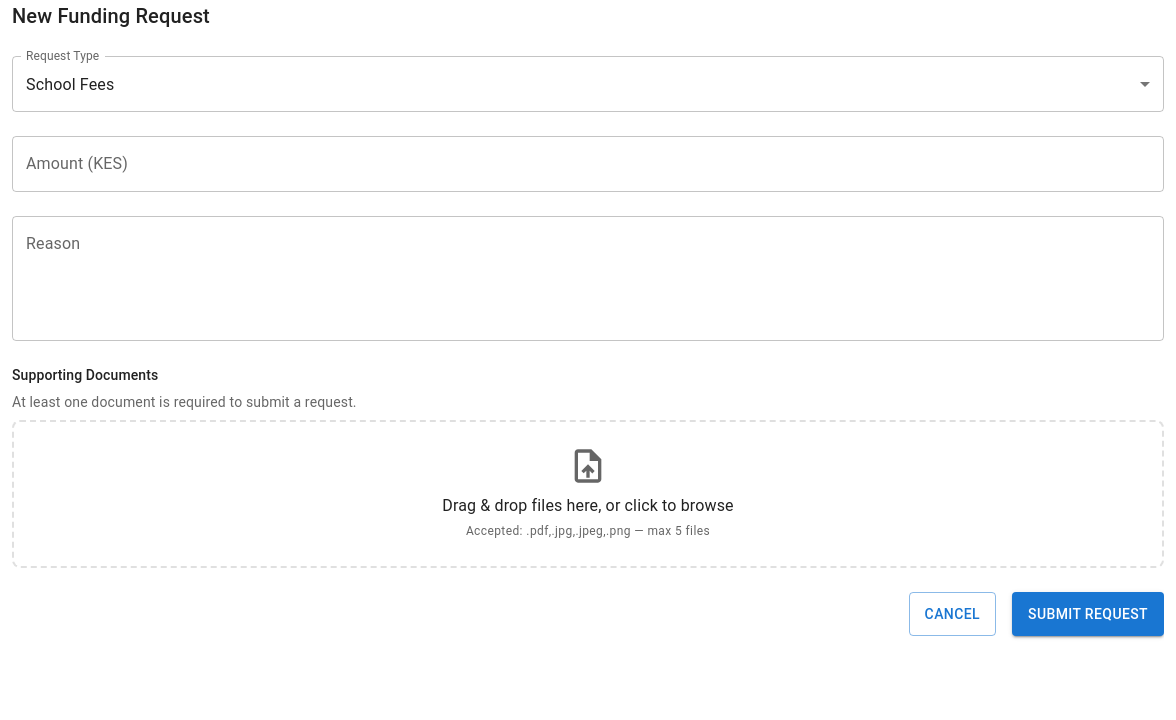
Test: RequestForm › shows validation error when amount is missing
Type "Need funds for school fees this term" into the text box labelled "Reason".
click(588, 278); type("Need funds for school fees this term")  # box left=26, top=232, right=1150, bottom=324
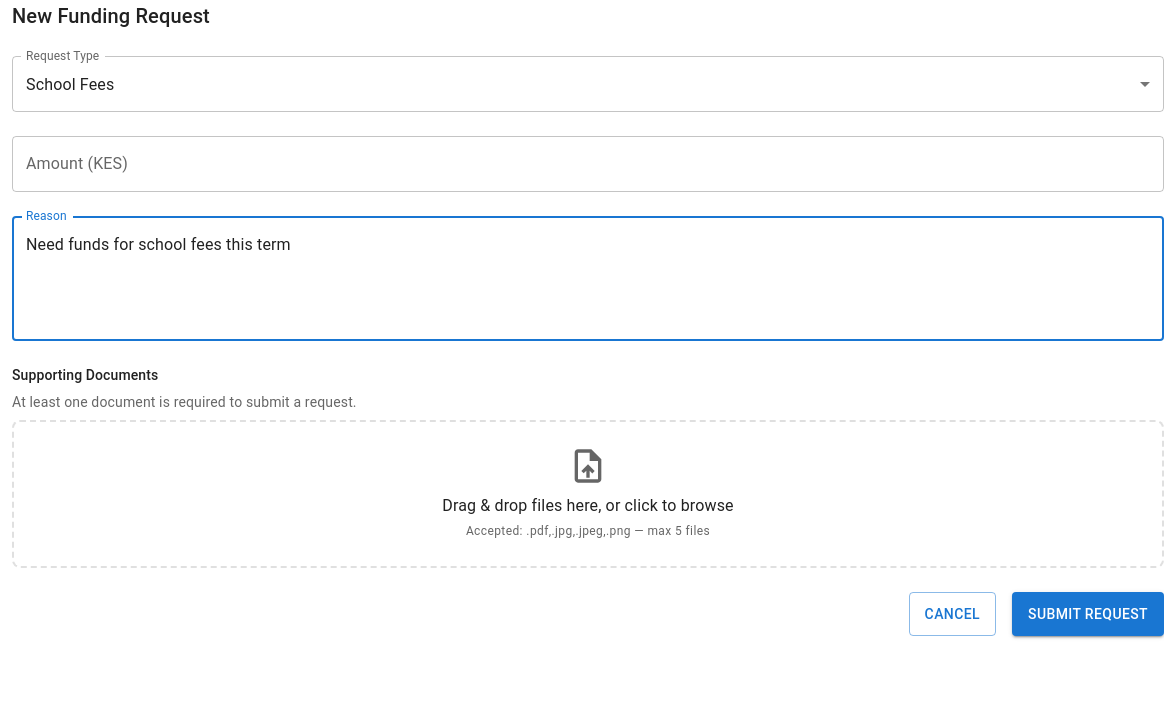
Click the button "Submit Request".
click(1088, 614)  # box left=1012, top=592, right=1164, bottom=636
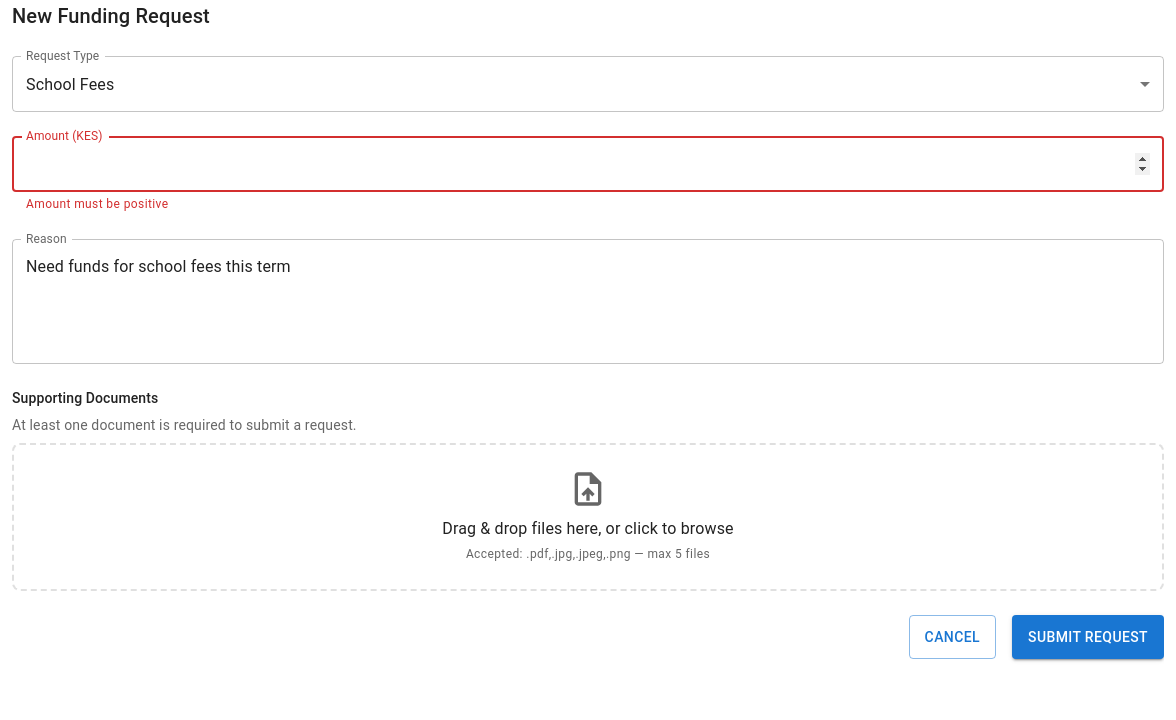
Check: the text "Amount must be positive" is shown, box left=26, top=197, right=168, bottom=211
